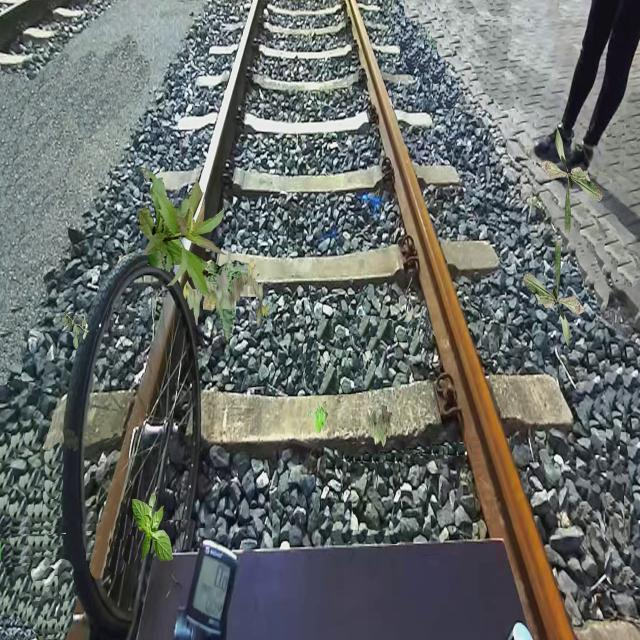Plant: (138, 167, 227, 297), (522, 240, 586, 352), (540, 124, 604, 236), (183, 259, 270, 328), (197, 260, 260, 343), (132, 493, 174, 564), (62, 308, 90, 349), (367, 405, 393, 448), (307, 401, 328, 434)
